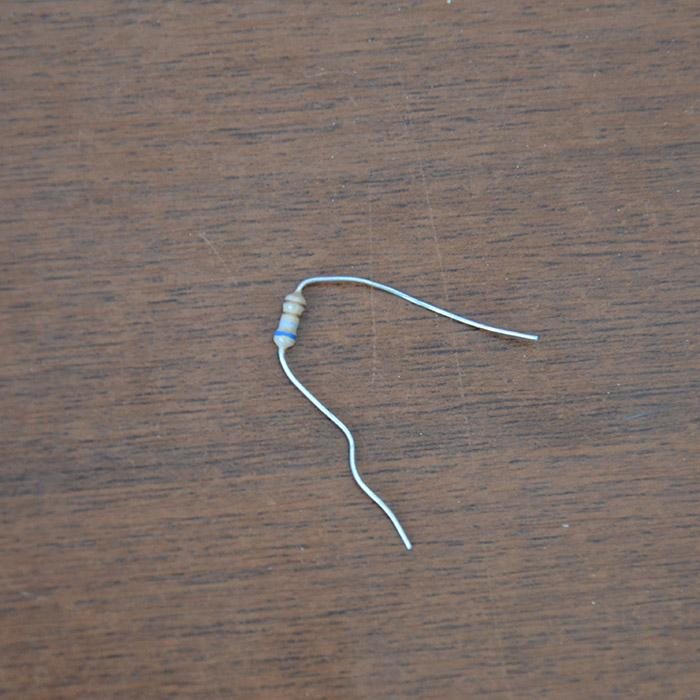resistor: (273, 291, 306, 350)
